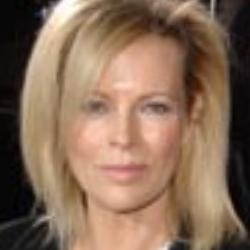face: (11, 2, 241, 241)
